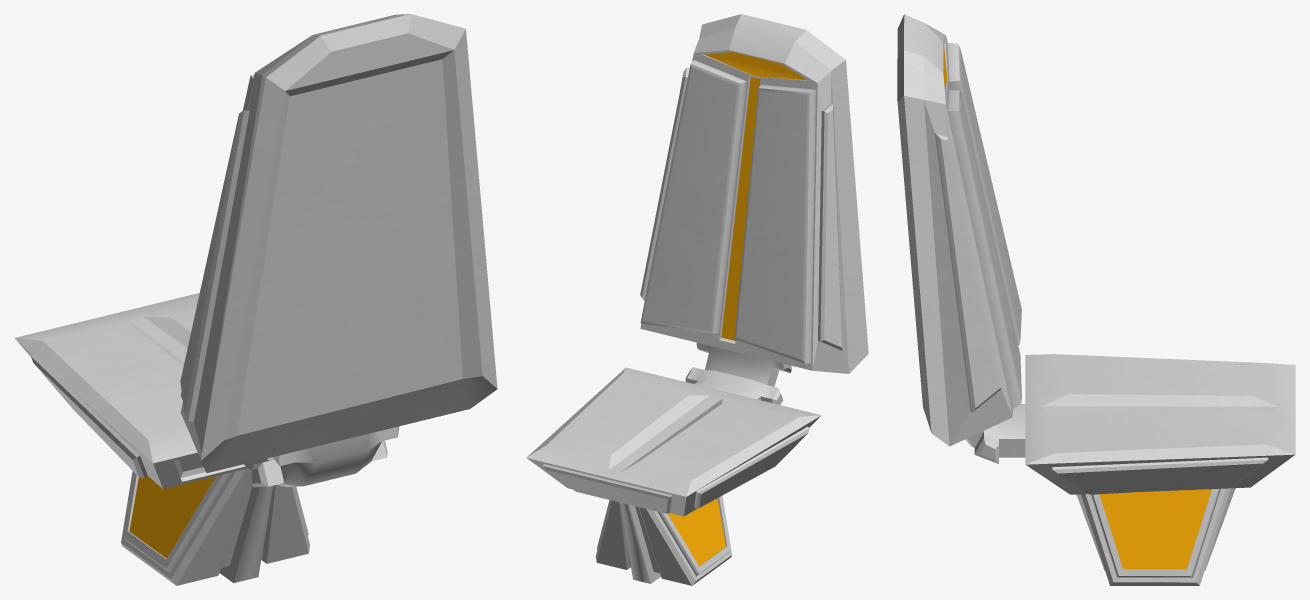
The model's file is FUR0310009.fbx.
3 renders of one model, left to right at view 1: azimuth 30°, elevation 25°; view 2: azimuth 150°, elevation 25°; view 3: azimuth 270°, elevation 25°, orthographic. The views are drawn at different scales.
Visible parts, largest first — view 1: smFUR0310009; view 2: smFUR0310009; view 3: smFUR0310009.
Part boxes in pixels (x1=…): smFUR0310009: x1=15, y1=14, x2=497, y2=585; smFUR0310009: x1=526, y1=14, x2=868, y2=585; smFUR0310009: x1=897, y1=14, x2=1295, y2=585.
Bounding box in the file's own units: 81.61 × 169 × 115.
Materials: 1 (1 with a texture image).
